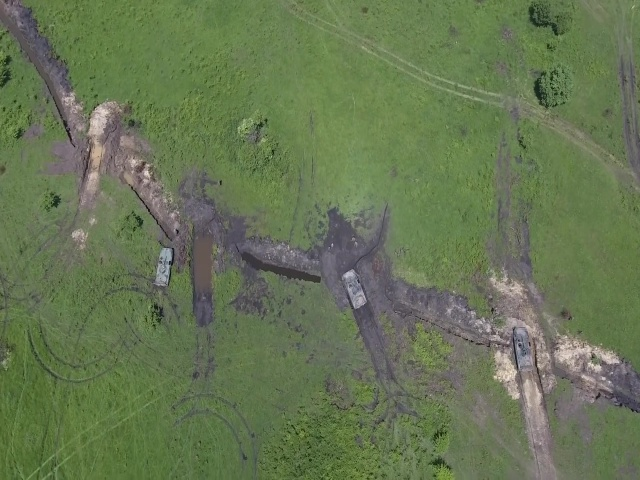vehicle: (342, 268, 368, 310), (512, 325, 534, 371), (154, 246, 174, 287)
